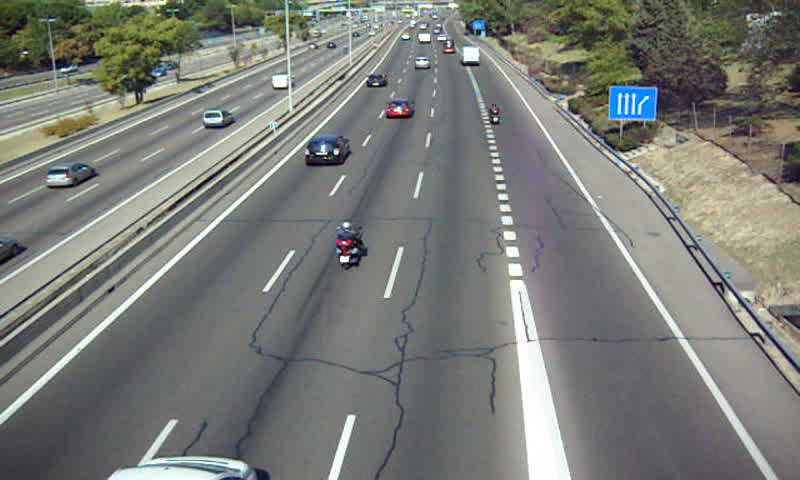car: (302, 134, 350, 165), (384, 99, 413, 118), (364, 72, 388, 88), (413, 56, 429, 70)
motorcycle: (334, 220, 364, 269), (488, 102, 501, 126)
van: (460, 45, 481, 64)
